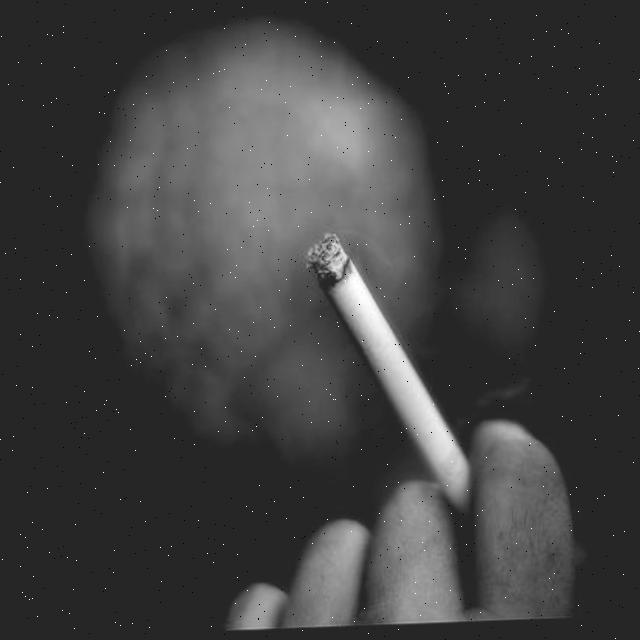cigarette: (303, 231, 478, 519)
